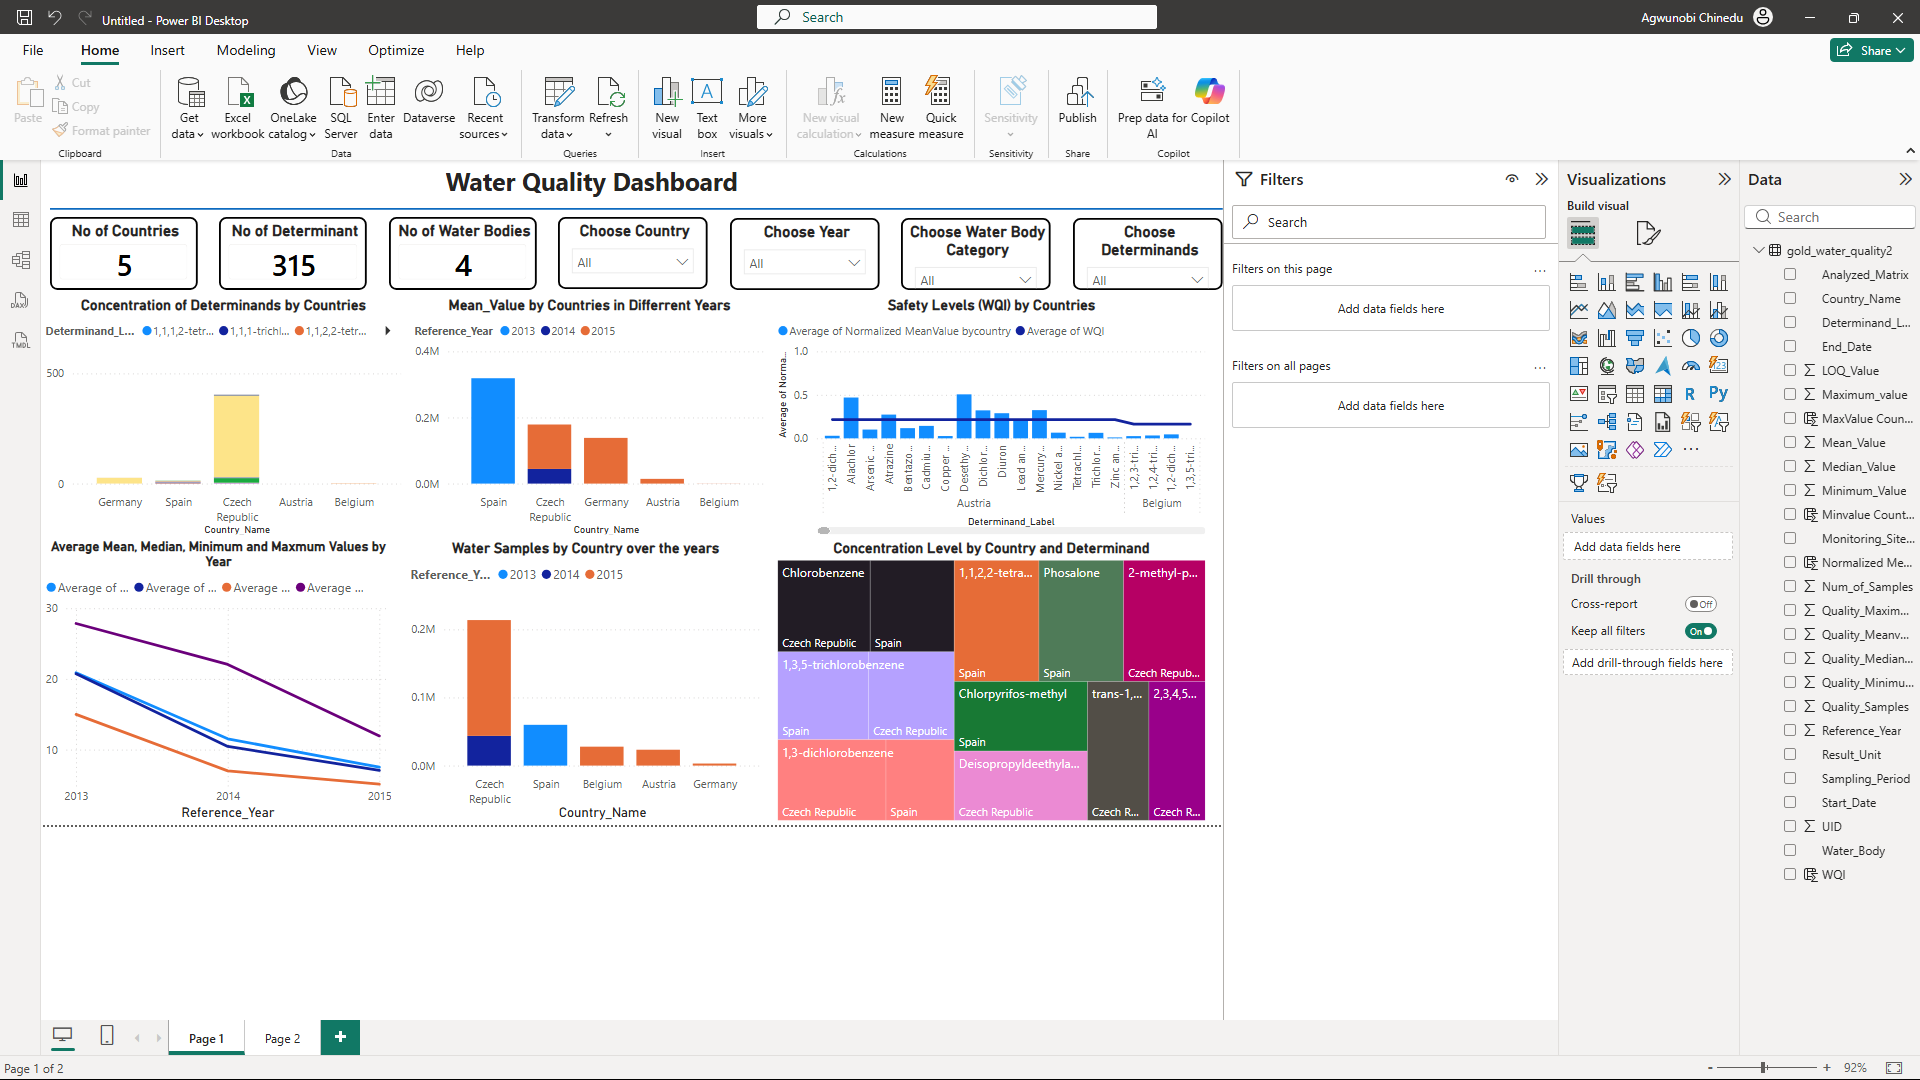

Layout of this report page (visuals, bound fields, positions):
{"tool":"powerbi","page":{"name":"Page 1","canvas":[1280,720],"ordinal":0},"visuals":[{"type":"shape","box":[9.7,0,1270.3,106],"z":0},{"type":"textbox","box":[432.8,0,500.9,45.7],"z":1000},{"type":"cardVisual","title":"No of Countries","fields":{"Data":["Count(gold_water_quality2.Country_Name)"]},"box":[9.7,61.3,159.5,78.8],"z":2000},{"type":"cardVisual","title":"No of Determinant","fields":{"Data":["Count(gold_water_quality2.Determinand_Label)"]},"box":[192.7,61.3,160.5,78.8],"z":3000},{"type":"cardVisual","title":"No of Water Bodies","fields":{"Data":["Count(gold_water_quality2.Water_Body)"]},"box":[376.7,61.3,159.5,78.8],"z":4000},{"type":"slicer","title":"Choose Water Body Category","fields":{"Values":["gold_water_quality2.Water_Body"]},"box":[931.6,62.8,162.4,78],"z":5000},{"type":"slicer","title":"Choose Country","fields":{"Values":["gold_water_quality2.Country_Name"]},"box":[559.7,61.7,162.4,78],"z":6000},{"type":"slicer","title":"Choose Determinands","fields":{"Values":["gold_water_quality2.Determinand_Label"]},"box":[1117.6,62.8,162.4,78],"z":7000},{"type":"slicer","title":"Choose Year","fields":{"Values":["gold_water_quality2.Reference_Year"]},"box":[745.7,62.8,162.4,78],"z":8000},{"type":"columnChart","title":"Concentration of Determinands by Countries","fields":{"Category":["gold_water_quality2.Country_Name"],"Y":["Avg(gold_water_quality2.Maximum_value)"],"Series":["gold_water_quality2.Determinand_Label"]},"box":[0,147.3,395.3,263.1],"z":9000},{"type":"lineChart","title":"Average Mean, Median, Minimum and Maxmum Values by Year","fields":{"Category":["gold_water_quality2.Reference_Year"],"Y":["Avg(gold_water_quality2.Mean_Value)","Avg(gold_water_quality2.Median_Value)","Avg(gold_water_quality2.Minimum_Value)","Avg(gold_water_quality2.Maximum_value)"]},"box":[0,410.4,384.4,309.7],"z":10000},{"type":"lineStackedColumnComboChart","title":"Safety Levels (WQI) by Countries","fields":{"Category":["gold_water_quality2.Country_Name","gold_water_quality2.Determinand_Label"],"Y":["Avg(gold_water_quality2.Normalized MeanValue bycountry)"],"Y2":["Avg(gold_water_quality2.WQI)"]},"box":[792.7,147.3,473.2,263.1],"z":11000},{"type":"treemap","title":"Concentration Level by Country and Determinand","fields":{"Group":["gold_water_quality2.Determinand_Label","gold_water_quality2.Reference_Year"],"Details":["gold_water_quality2.Country_Name"],"Values":["Avg(gold_water_quality2.Normalized MeanValue bycountry)"]},"box":[792.7,410.3,473.2,309.7],"z":12000},{"type":"columnChart","title":"Mean_Value by Countries in Differrent Years","fields":{"Y":["Sum(gold_water_quality2.Mean_Value)"],"Category":["gold_water_quality2.Country_Name"],"Series":["gold_water_quality2.Reference_Year"]},"box":[399.6,147.3,388.8,263.1],"z":12001},{"type":"columnChart","title":"Water Samples by Country over the years","fields":{"Series":["gold_water_quality2.Reference_Year"],"Category":["gold_water_quality2.Country_Name"],"Y":["Sum(gold_water_quality2.Num_of_Samples)"]},"box":[395.3,410.4,388.8,309.7],"z":12002}]}

Visuals, with their boxes on the page's 1280x720 design canvas (x1, y1, x2, y2). These are canvas units, not pixel positions in the 1920x1080 screenshot, which may show the page scaled, cropped or inside an application window:
shape: left=10, top=0, right=1280, bottom=106
textbox: left=433, top=0, right=934, bottom=46
"No of Countries" cardVisual: left=10, top=61, right=169, bottom=140
"No of Determinant" cardVisual: left=193, top=61, right=353, bottom=140
"No of Water Bodies" cardVisual: left=377, top=61, right=536, bottom=140
"Choose Water Body Category" slicer: left=932, top=63, right=1094, bottom=141
"Choose Country" slicer: left=560, top=62, right=722, bottom=140
"Choose Determinands" slicer: left=1118, top=63, right=1280, bottom=141
"Choose Year" slicer: left=746, top=63, right=908, bottom=141
"Concentration of Determinands by Countries" columnChart: left=0, top=147, right=395, bottom=410
"Average Mean, Median, Minimum and Maxmum Values by Year" lineChart: left=0, top=410, right=384, bottom=720
"Safety Levels (WQI) by Countries" lineStackedColumnComboChart: left=793, top=147, right=1266, bottom=410
"Concentration Level by Country and Determinand" treemap: left=793, top=410, right=1266, bottom=720
"Mean_Value by Countries in Differrent Years" columnChart: left=400, top=147, right=788, bottom=410
"Water Samples by Country over the years" columnChart: left=395, top=410, right=784, bottom=720
